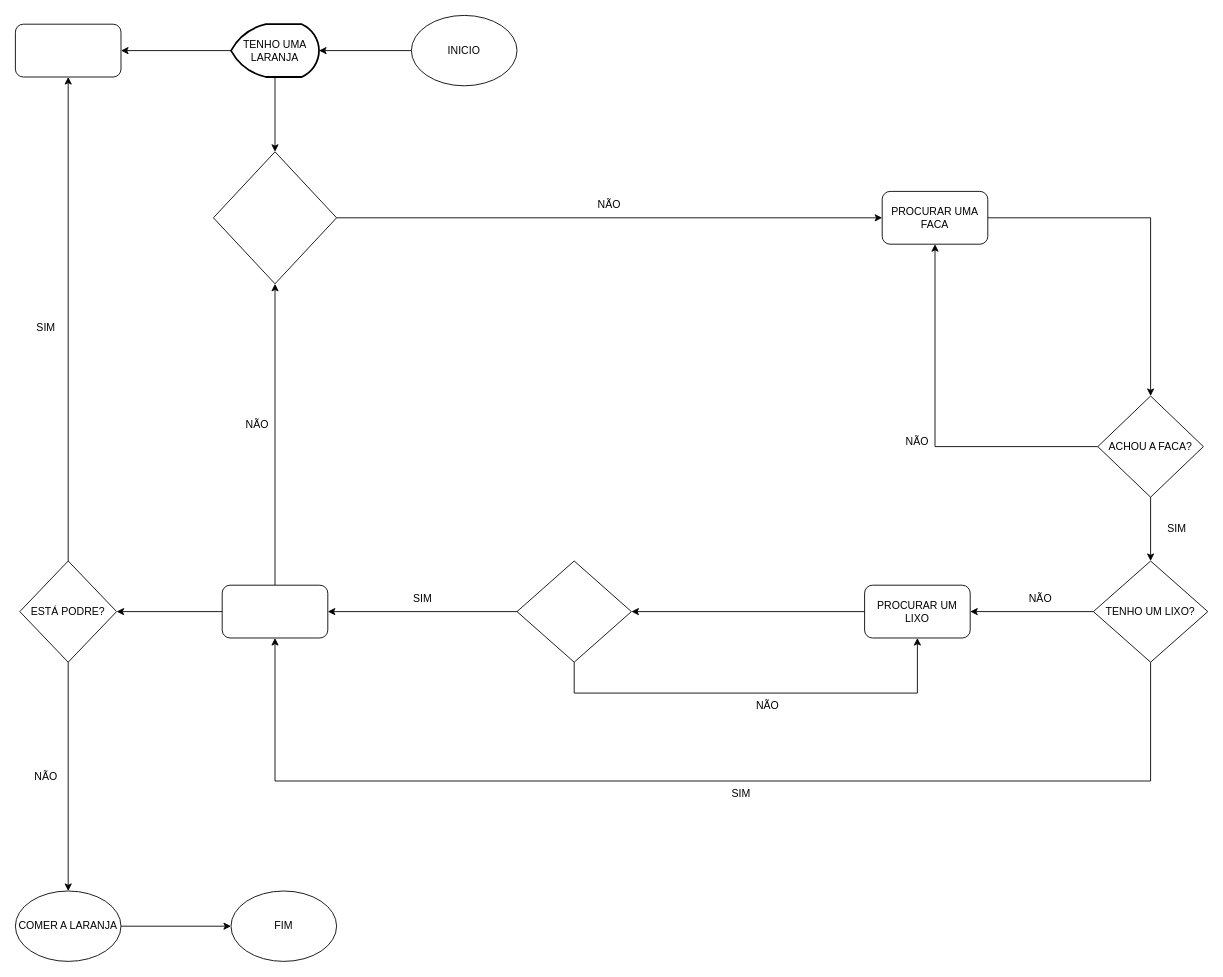
The diagram is 1223 pixels wide and 977 high, and some of its shapes have lost their labels. The centre of each missing label's shape, as x and y in pixels:
ACHOU O LIXO?: the point at 573,611
DESCASQUEI A LARANJA: the point at 274,611
ELA ESTÁ DESCASCADA?: the point at 275,217
TROCAR A LARANJA: the point at 68,50
